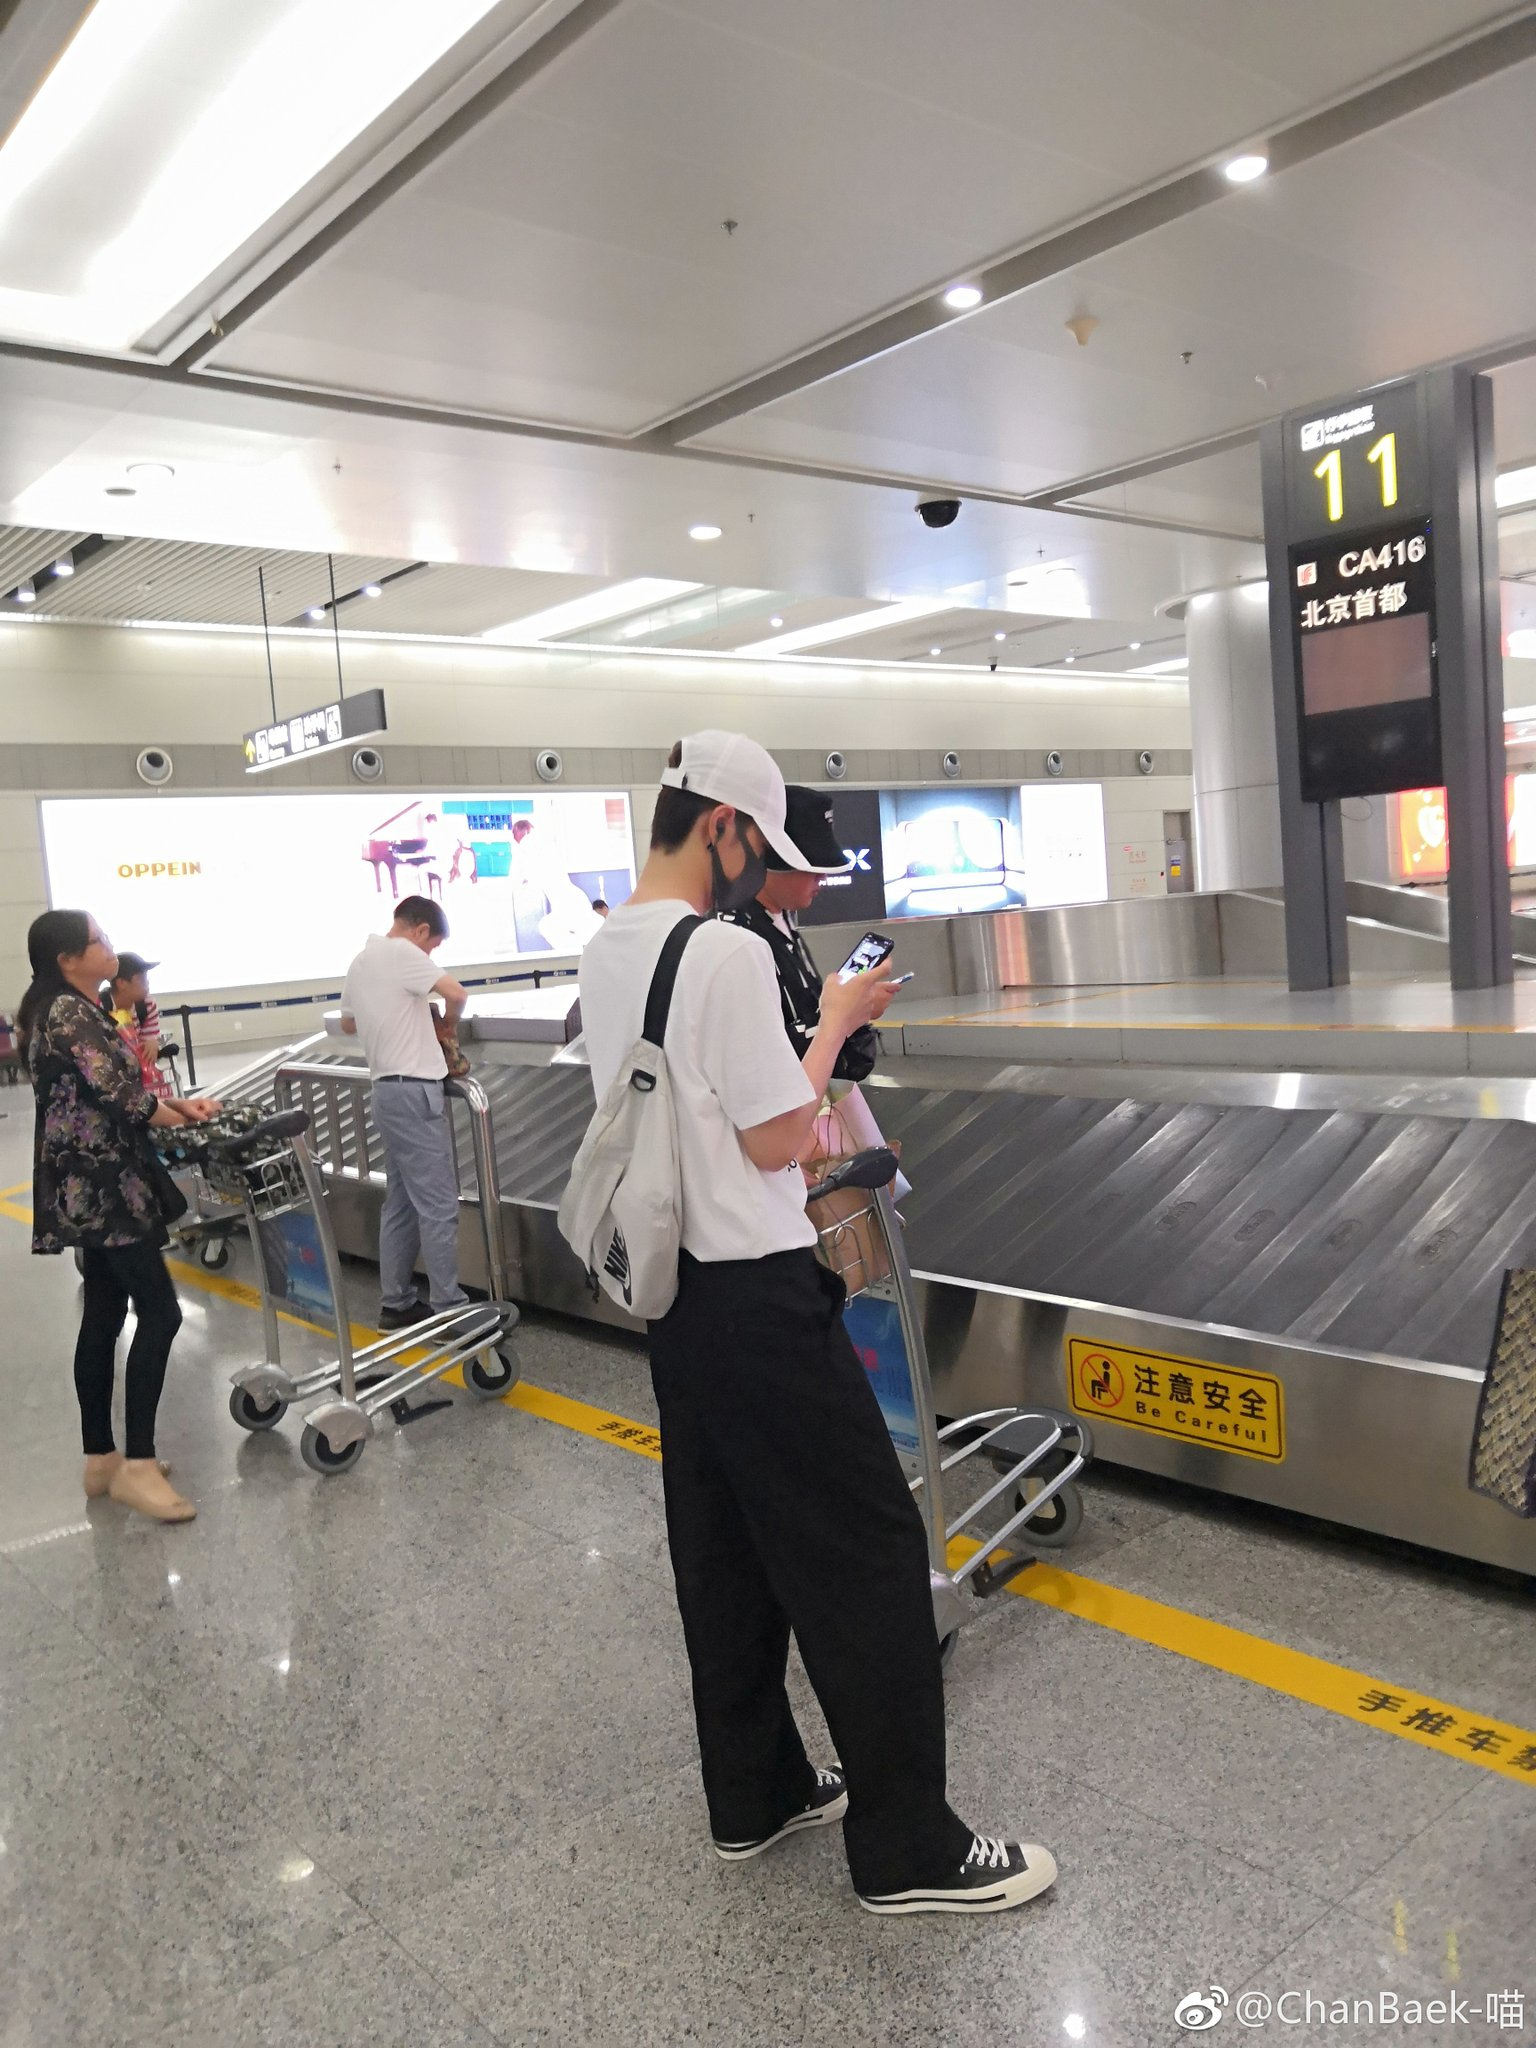bag: (528, 1039, 697, 1327)
people: (594, 686, 1028, 1980), (13, 905, 219, 1545), (332, 864, 488, 1345)
